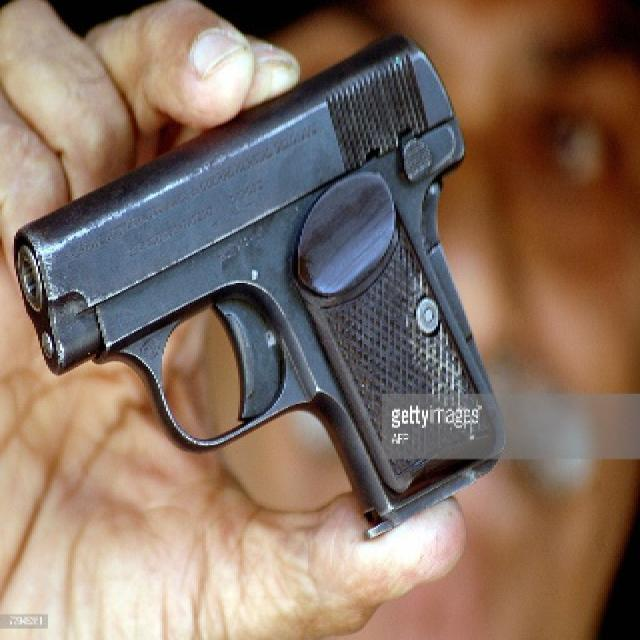handgun: (13, 35, 509, 533)
